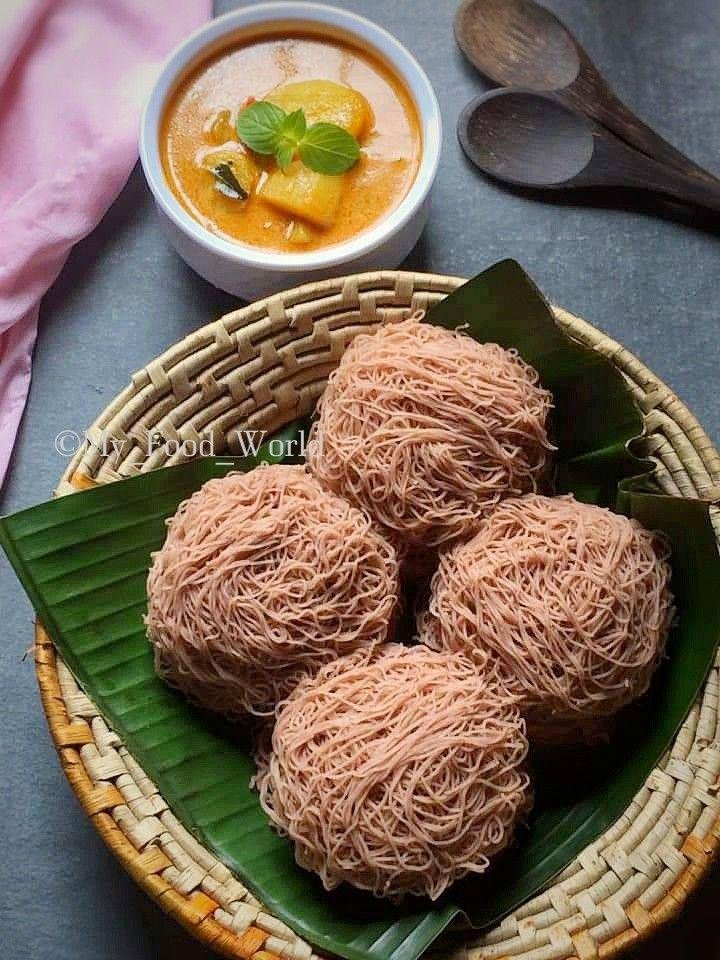String Hoppers: (126, 302, 703, 928)
